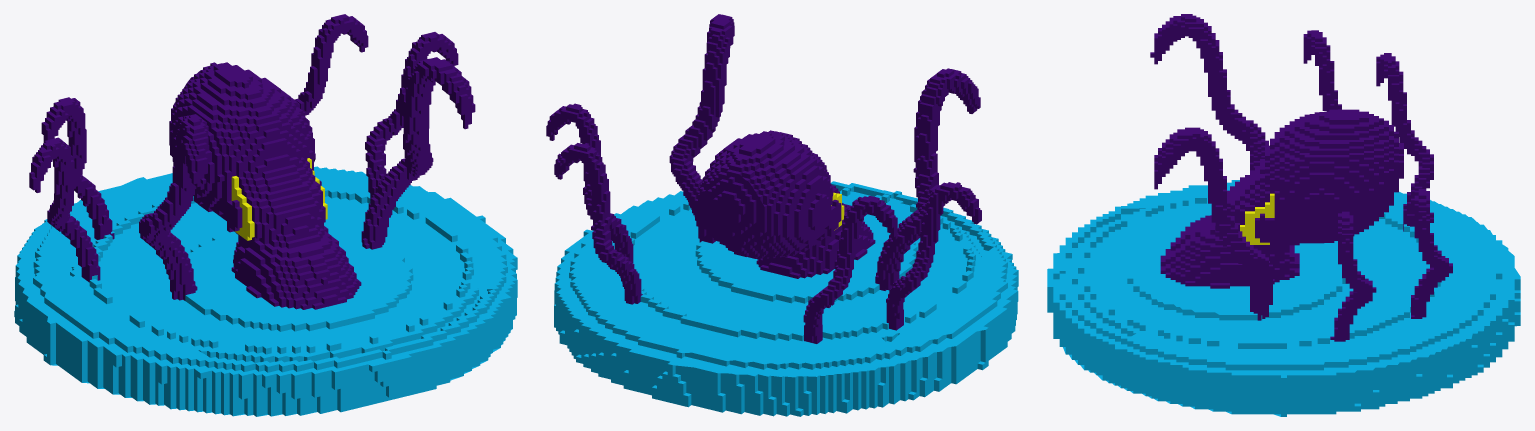
File: Kraken.fbx
The picture shows the model from 3 angles, left to right: view 1: azimuth 30°, elevation 25°; view 2: azimuth 150°, elevation 25°; view 3: azimuth 270°, elevation 25°; orthographic projection. The views are drawn at different scales.
Visible parts, largest first — view 1: Kraken_Water, Kraken_Body, Kraken_Tentacles; view 2: Kraken_Water, Kraken_Tentacles, Kraken_Body; view 3: Kraken_Water, Kraken_Body, Kraken_Tentacles.
Boxes of the visible parts, x1,y1,x2,y2 form: Kraken_Water: (14, 166, 517, 416); Kraken_Body: (169, 62, 361, 309); Kraken_Tentacles: (29, 14, 475, 300); Kraken_Water: (554, 181, 1018, 416); Kraken_Tentacles: (546, 14, 981, 343); Kraken_Body: (698, 130, 875, 278); Kraken_Water: (1047, 180, 1520, 416); Kraken_Body: (1160, 109, 1403, 288); Kraken_Tentacles: (1150, 14, 1452, 341).
Size of the model in its own units: 444 by 246 by 432.
